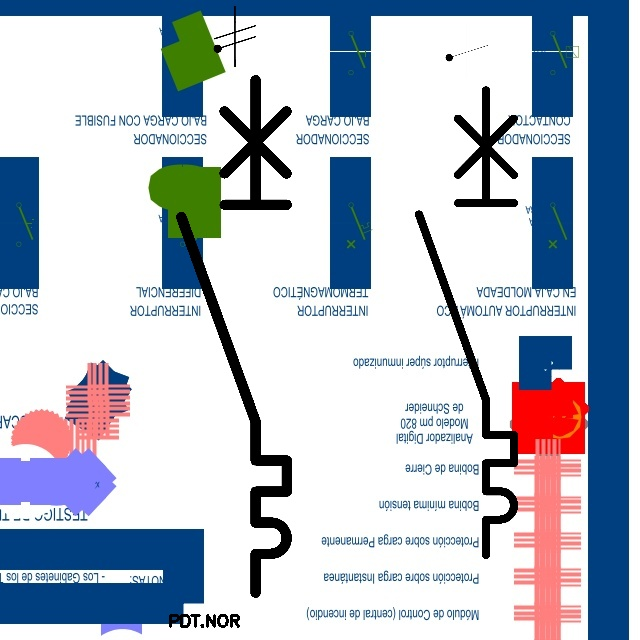interruptor_termomagnetico: (168, 66, 300, 605), (407, 78, 526, 567)
